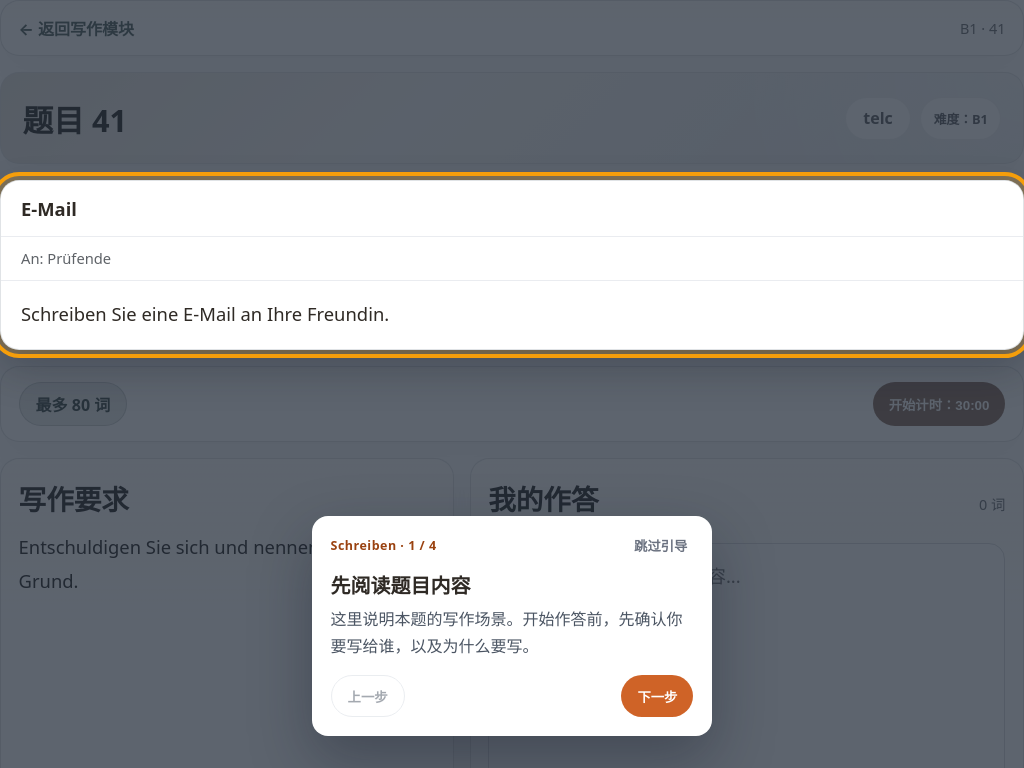
ExamPreparationWritingDetailPage text annotations › keeps the existing guide interactive without registering its controls
Expected: the dialog is shown, [312,516,712,736]
Click the button "下一步" at (657, 696), box [621,675,693,717]
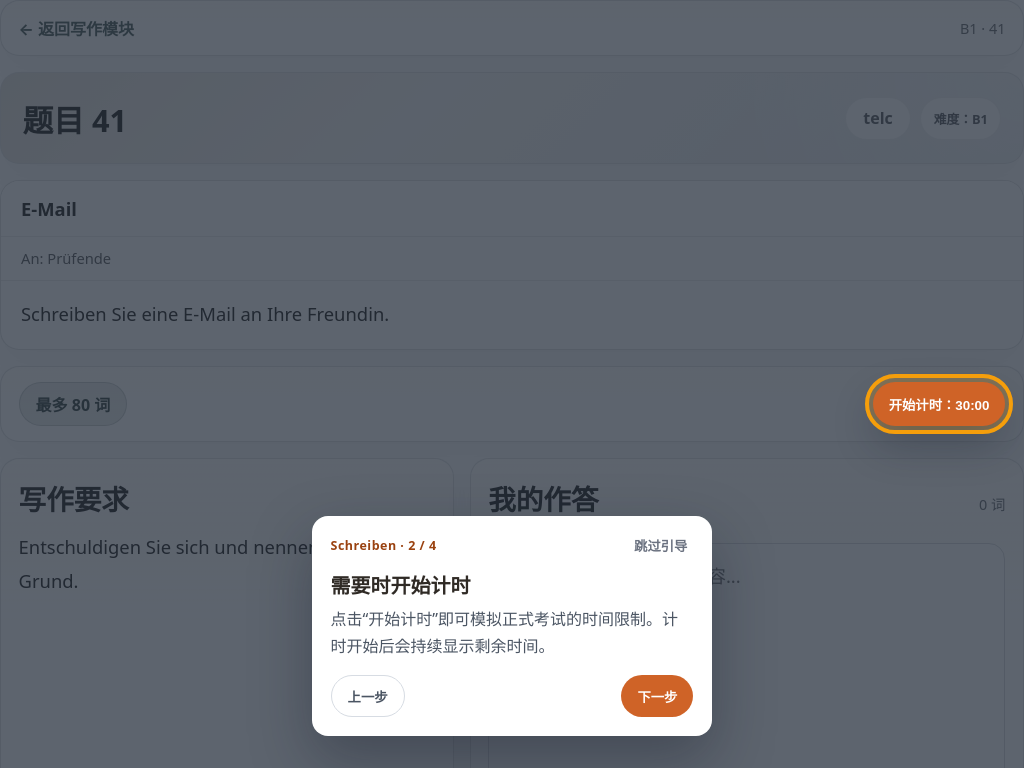
Now the heading "需要时开始计时" is shown, box [331,572,471,599]
